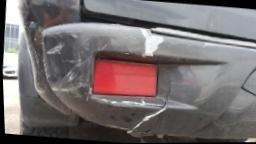Bumper: (22, 20, 204, 138)
